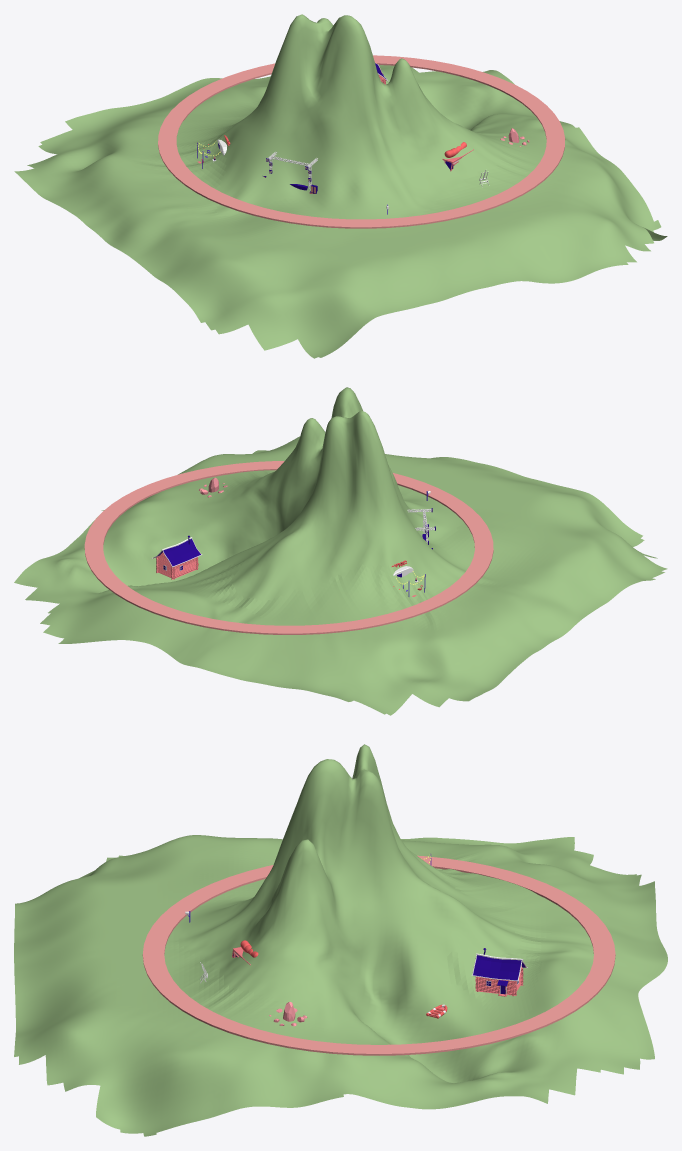
File: islandv1.glb
3 views of the same model, one above another, from view 1: azimuth 30°, elevation 25°; view 2: azimuth 150°, elevation 25°; view 3: azimuth 270°, elevation 25° (orthographic). The views are drawn at different scales.
Parts seen in each view (by area): view 1: Landscape, Street; view 2: Landscape, Street, Cabin_shed; view 3: Landscape, Street, Cabin_shed.
Boxes of the visible parts, x1,y1,x2,y2 form: Landscape: [14, 14, 667, 358]; Street: [158, 55, 565, 228]; Landscape: [14, 387, 667, 715]; Street: [84, 461, 493, 634]; Cabin_shed: [151, 535, 202, 579]; Landscape: [14, 744, 667, 1136]; Street: [142, 855, 615, 1055]; Cabin_shed: [471, 948, 527, 996].
Size of what is drawn, in the model's own units: 32.55 by 14.23 by 34.09.
